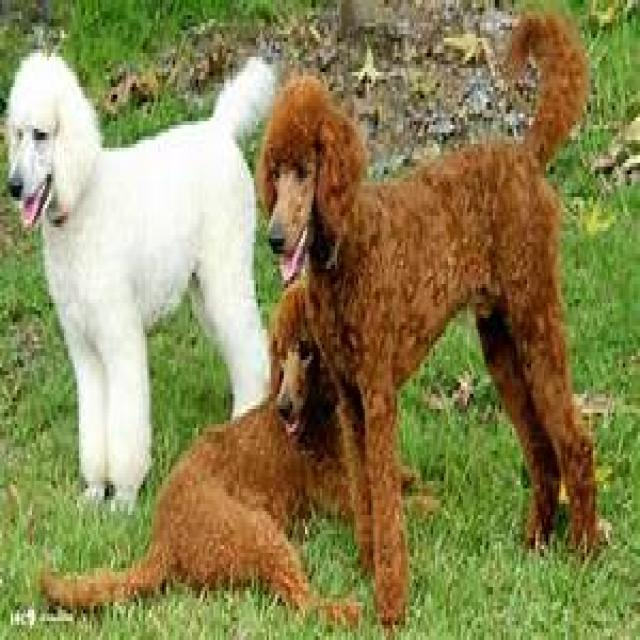dog: (256, 15, 604, 629), (2, 49, 282, 504), (41, 284, 354, 610)
